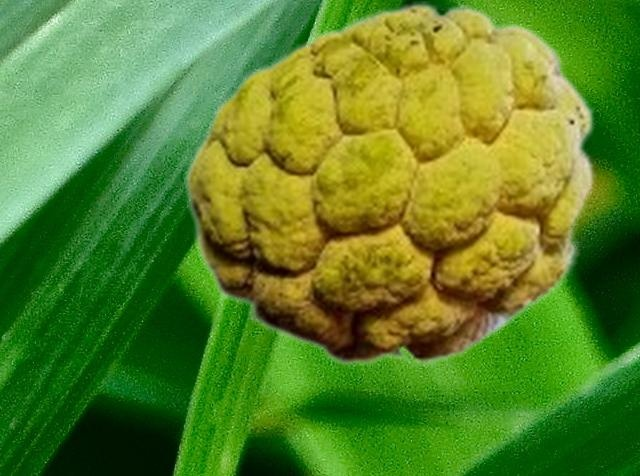atis: (182, 1, 595, 365)
